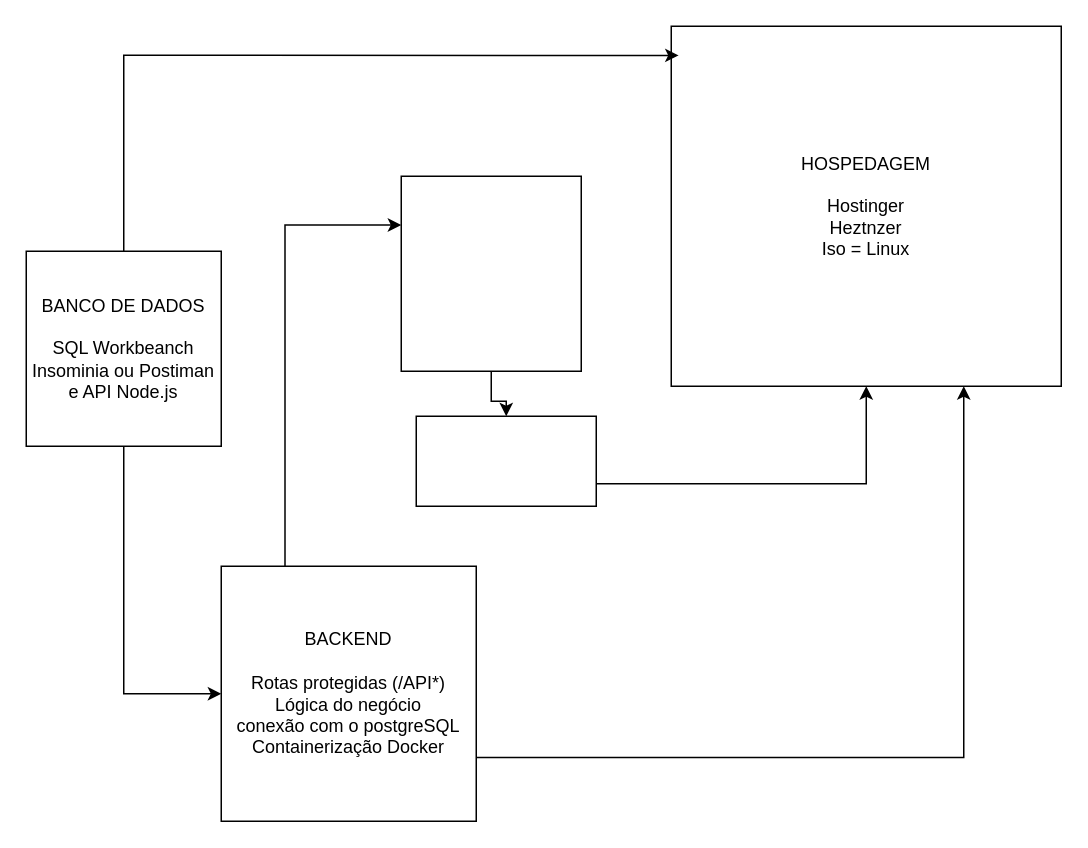
Some shapes in this 1088 by 848 pixel diagram are drawn without their labels. The shapes that lost their labels are listed below. From the top down, each one's box as (x1, y1, x2, y2) in pixels, then its label:
(400, 175, 581, 371): Front HTML CSS React Next ou Vite
(415, 415, 596, 506): GITHUB
